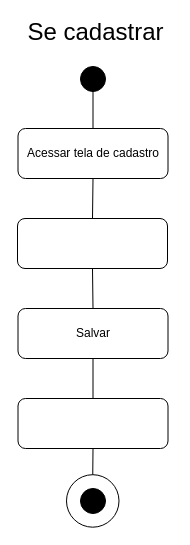
The diagram is 190 pixels wide and 545 high, and some of its shapes have lost their labels. The centre of each missing label's shape, as x and y in pixels:
Acessar sistema: the point at 92,423
Inserir informações: the point at 92,243
